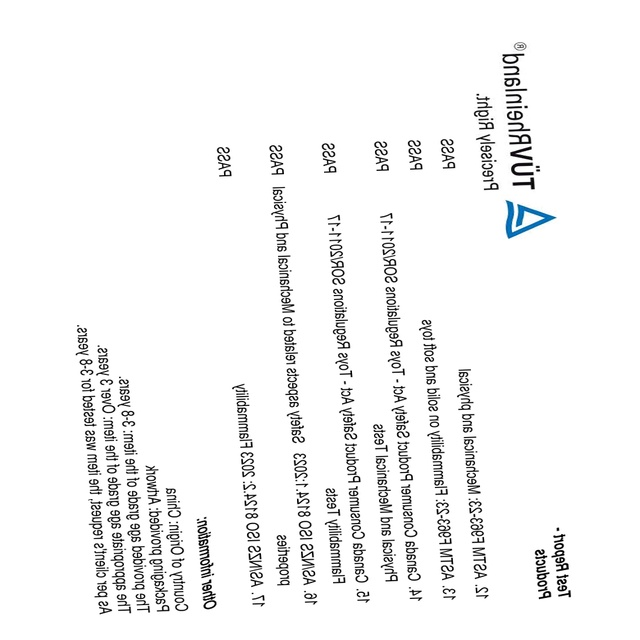tuv_rheinland: (500, 40, 558, 242)
